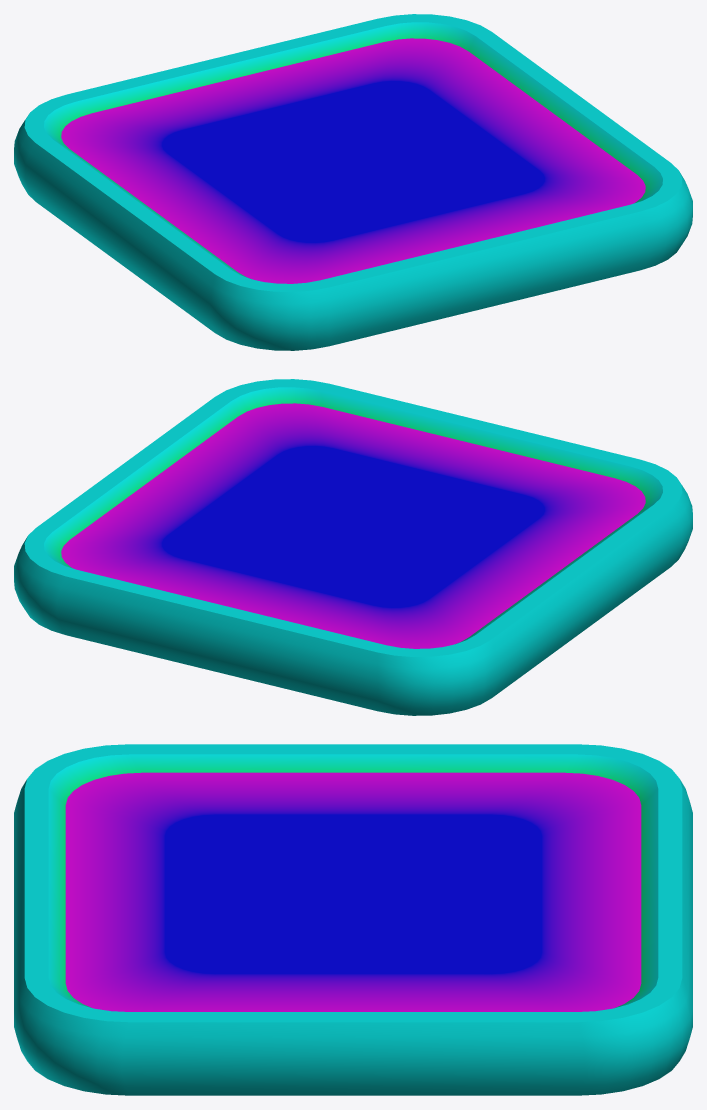
Rendered from Jumping Platform.fbx.
3 renders of one model, top to bottom at view 1: azimuth 30°, elevation 25°; view 2: azimuth 150°, elevation 25°; view 3: azimuth 270°, elevation 25°, orthographic. The views are drawn at different scales.
Visible parts, largest first — view 1: Cube; view 2: Cube; view 3: Cube.
Part boxes in pixels (x1,y1,x2,y2): Cube: [14, 14, 692, 350]; Cube: [14, 379, 692, 715]; Cube: [14, 744, 692, 1095].
Size of the model in its own units: 413 by 49.3 by 413.
